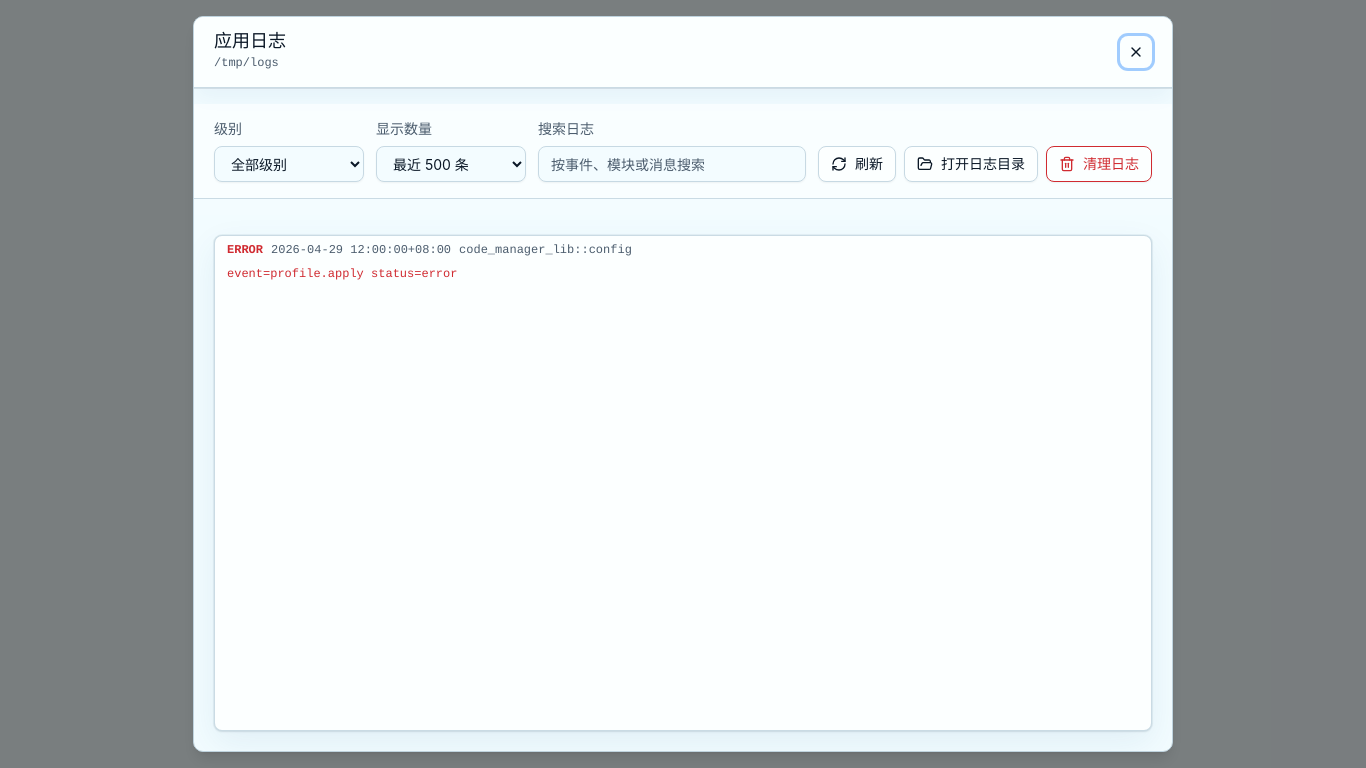
LogViewer › clears logs from the viewer
Expected: the text "event=profile.apply status=error" is shown, [227,267,457,281]
Click the button "清理日志": [1099, 164] box [1046,146,1152,182]
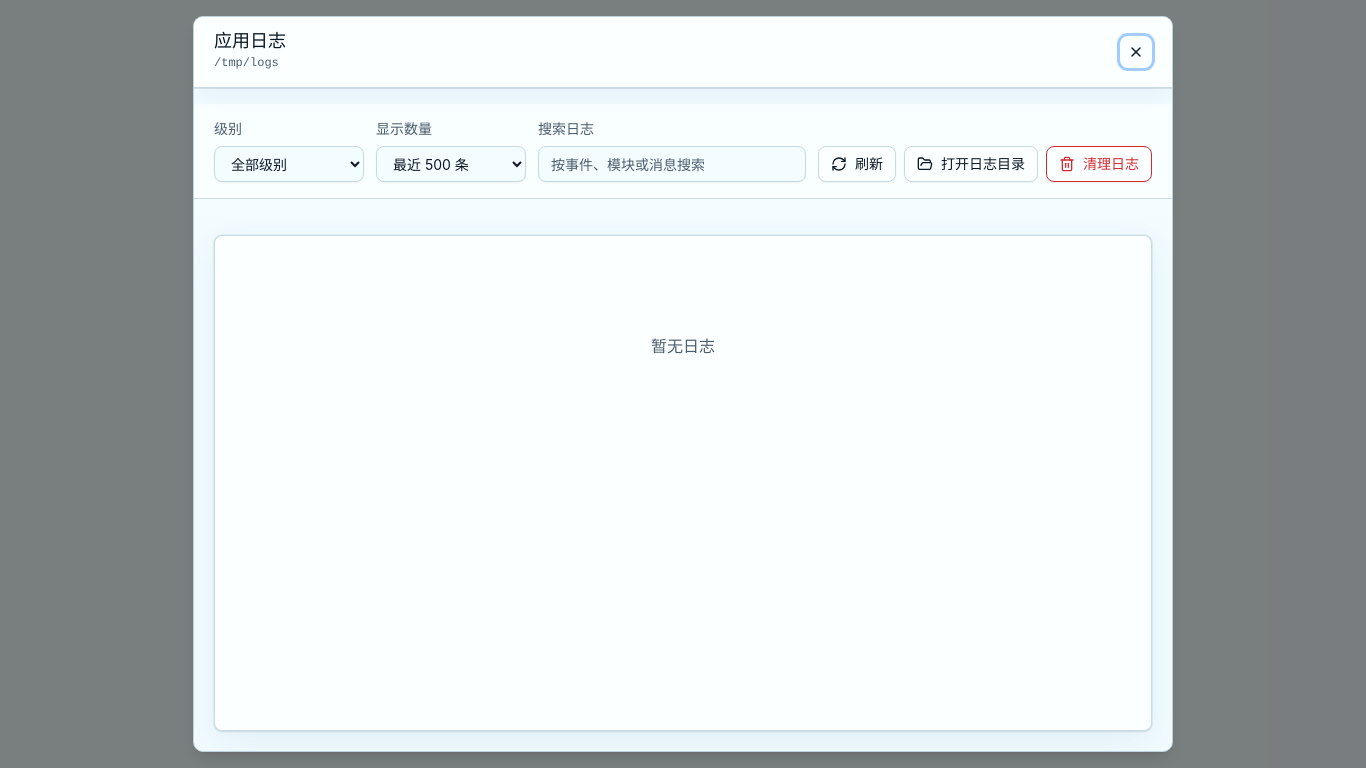
Expected: the text "暂无日志" is shown, [651,336,715,356]
